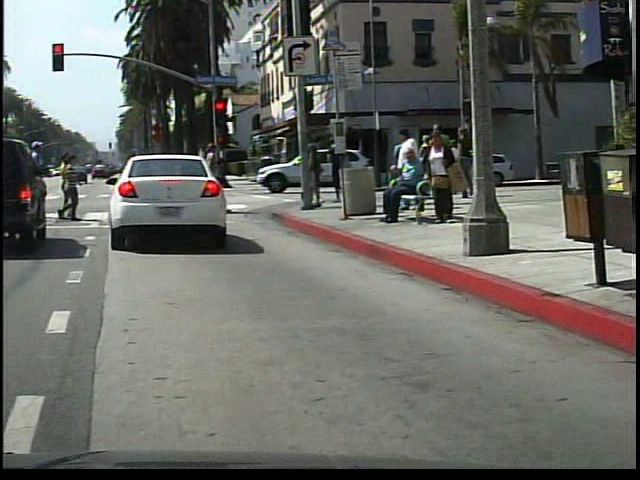person: (381, 150, 432, 228), (426, 129, 463, 228), (193, 136, 233, 219)
